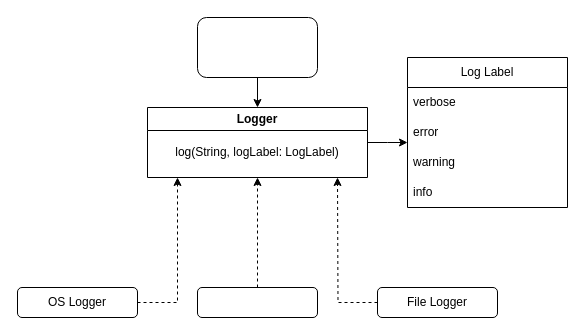
Some shapes in this 585 by 335 pixel diagram are drawn without their labels. The shapes that lost their labels are listed below. From the top down, each one's box as (x1, y1, x2, y2) in pixels, then its label:
(196, 16, 318, 78): AppState
(196, 286, 318, 318): MultiLogger
